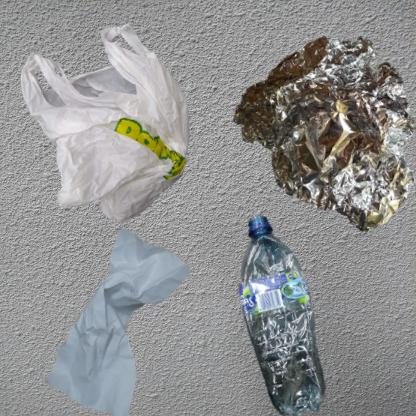aluminio: (213, 10, 416, 248)
bolsa: (10, 10, 235, 262)
botella: (213, 213, 369, 416)
papel: (10, 213, 236, 416)
